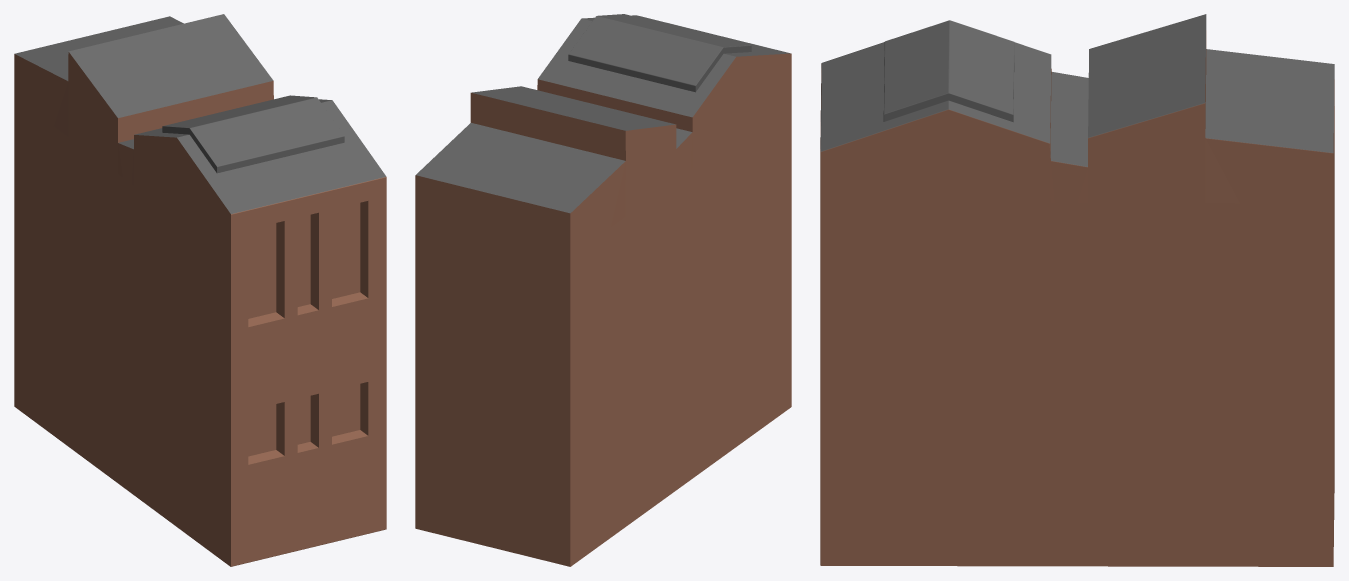
The model's file is building-1.glb.
3 views of the same model, side by side, from view 1: azimuth 30°, elevation 25°; view 2: azimuth 150°, elevation 25°; view 3: azimuth 270°, elevation 25° (orthographic). The views are drawn at different scales.
Parts seen in each view (by area): view 1: Cube.009, Cube.023; view 2: Cube.009, Cube.023; view 3: Cube.009, Cube.023.
Boxes of the visible parts, x1,y1,x2,y2 form: Cube.009: (14, 14, 386, 566); Cube.023: (162, 95, 344, 173); Cube.009: (415, 15, 791, 566); Cube.023: (568, 14, 751, 92); Cube.009: (820, 14, 1334, 566); Cube.023: (883, 20, 1014, 122).
Size of what is drawn, in the model's own units: 0.9375 by 2.25 by 2.26.
